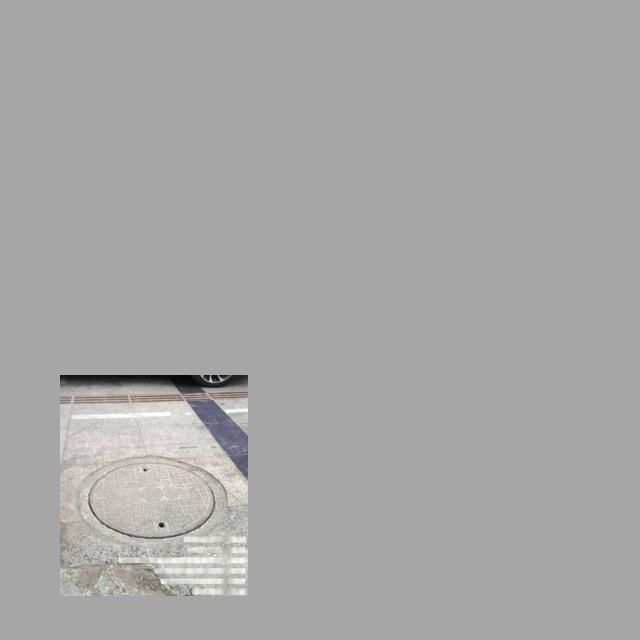good: (76, 455, 220, 545)
